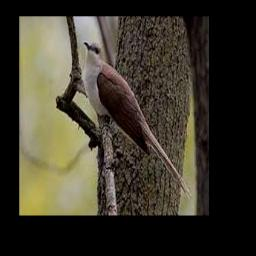Cuckoo: (84, 40, 192, 201)
